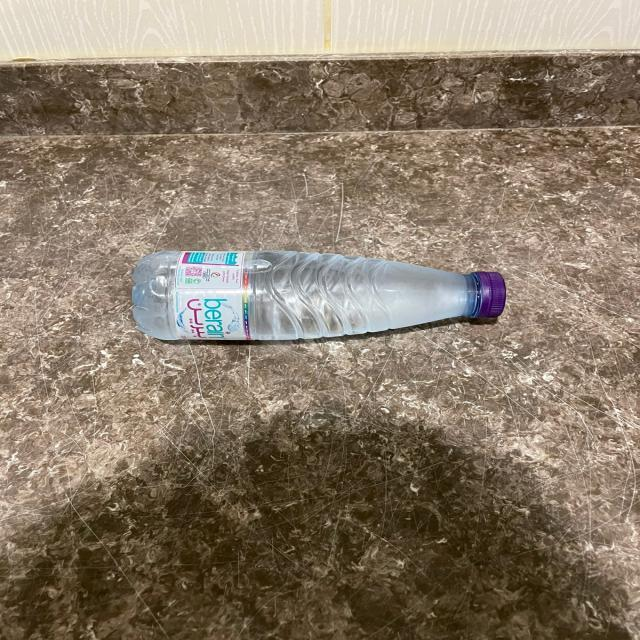chai: (134, 251, 506, 341)
